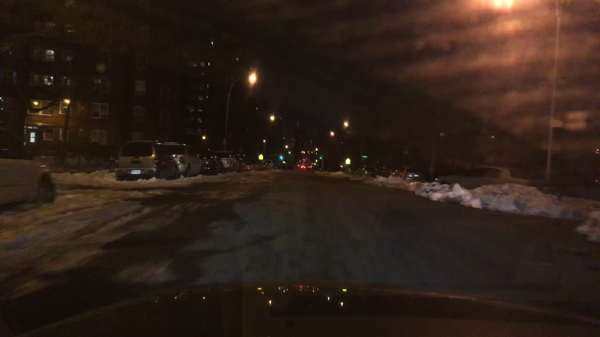car: (0, 142, 56, 208), (114, 139, 178, 182), (433, 165, 532, 188), (158, 141, 203, 179), (198, 148, 224, 173), (389, 165, 422, 181), (219, 154, 242, 171), (354, 165, 375, 176), (242, 160, 254, 171), (340, 165, 353, 175), (263, 158, 273, 168), (299, 163, 307, 171), (256, 162, 265, 169)
traffic sign: (551, 122, 563, 129)
